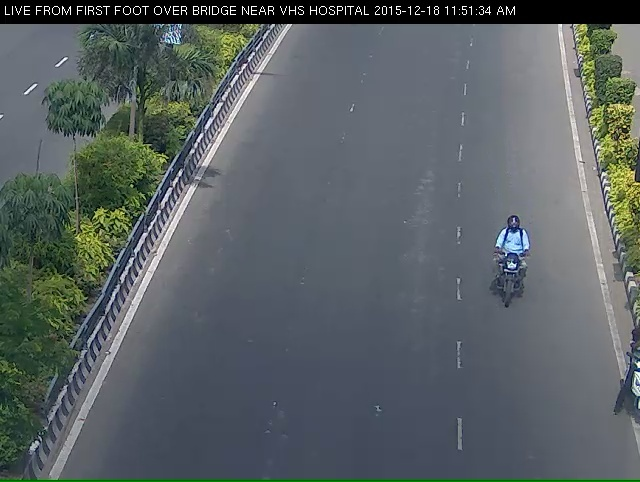Person: (491, 229, 538, 329)
